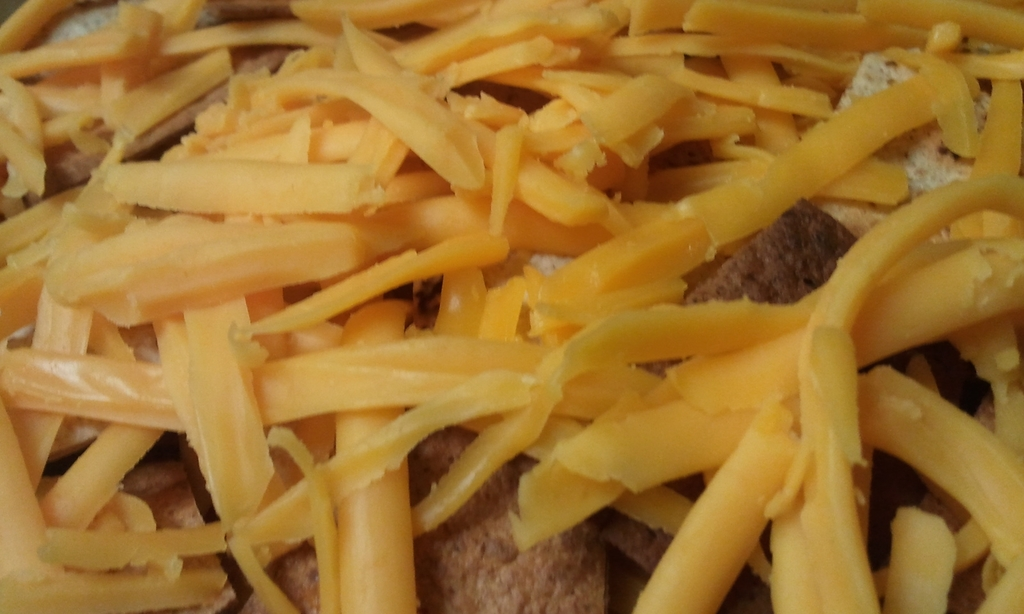French fries: (0, 0, 1019, 583)
